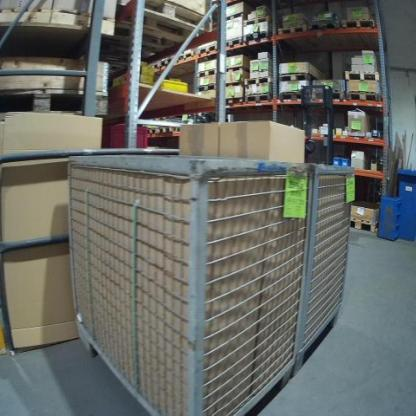pallet: (111, 0, 217, 52), (0, 90, 110, 118), (344, 69, 381, 83), (340, 16, 375, 30), (350, 217, 379, 233), (346, 90, 384, 102), (278, 23, 307, 37), (278, 73, 314, 84), (310, 90, 345, 101), (308, 20, 339, 32), (243, 15, 270, 28), (242, 31, 270, 43), (244, 75, 271, 87), (176, 49, 197, 64), (244, 93, 272, 104), (278, 91, 306, 101), (197, 44, 217, 58), (224, 64, 249, 75), (223, 36, 242, 49), (196, 67, 216, 79), (198, 82, 217, 93), (226, 12, 245, 22), (160, 55, 175, 67), (224, 96, 244, 104), (224, 80, 242, 88)
pallet_truck: (296, 78, 348, 168)
small_load_carrier: (99, 122, 148, 151)
stillage: (66, 155, 315, 415), (294, 165, 355, 378)
